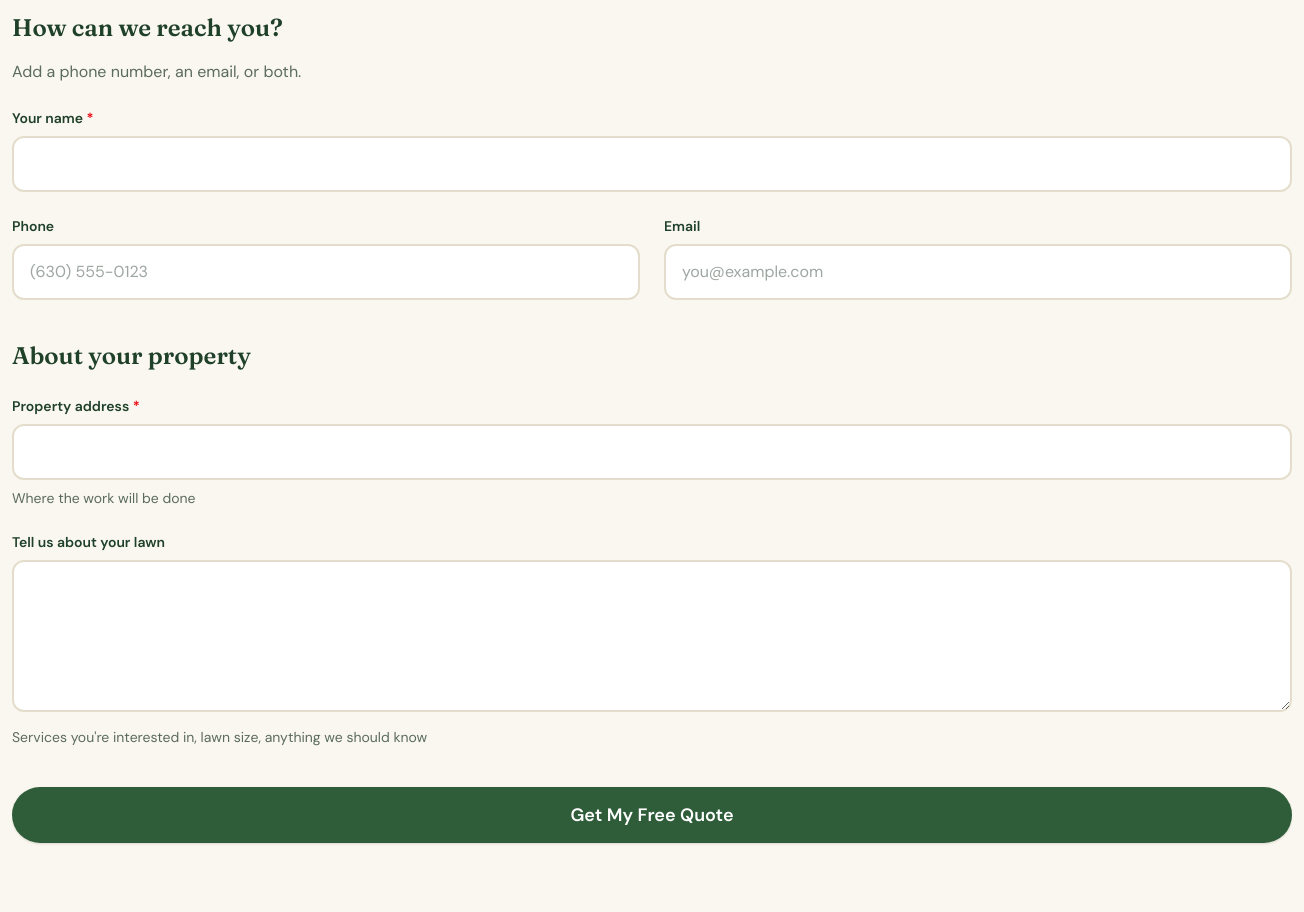
it: QuoteForm › requires a phone number or an email
The image size is (1304, 912).
Step 1. Type "Jane Smith" into the field labelled "Your name *" → (652, 164), box [12,136,1292,192]
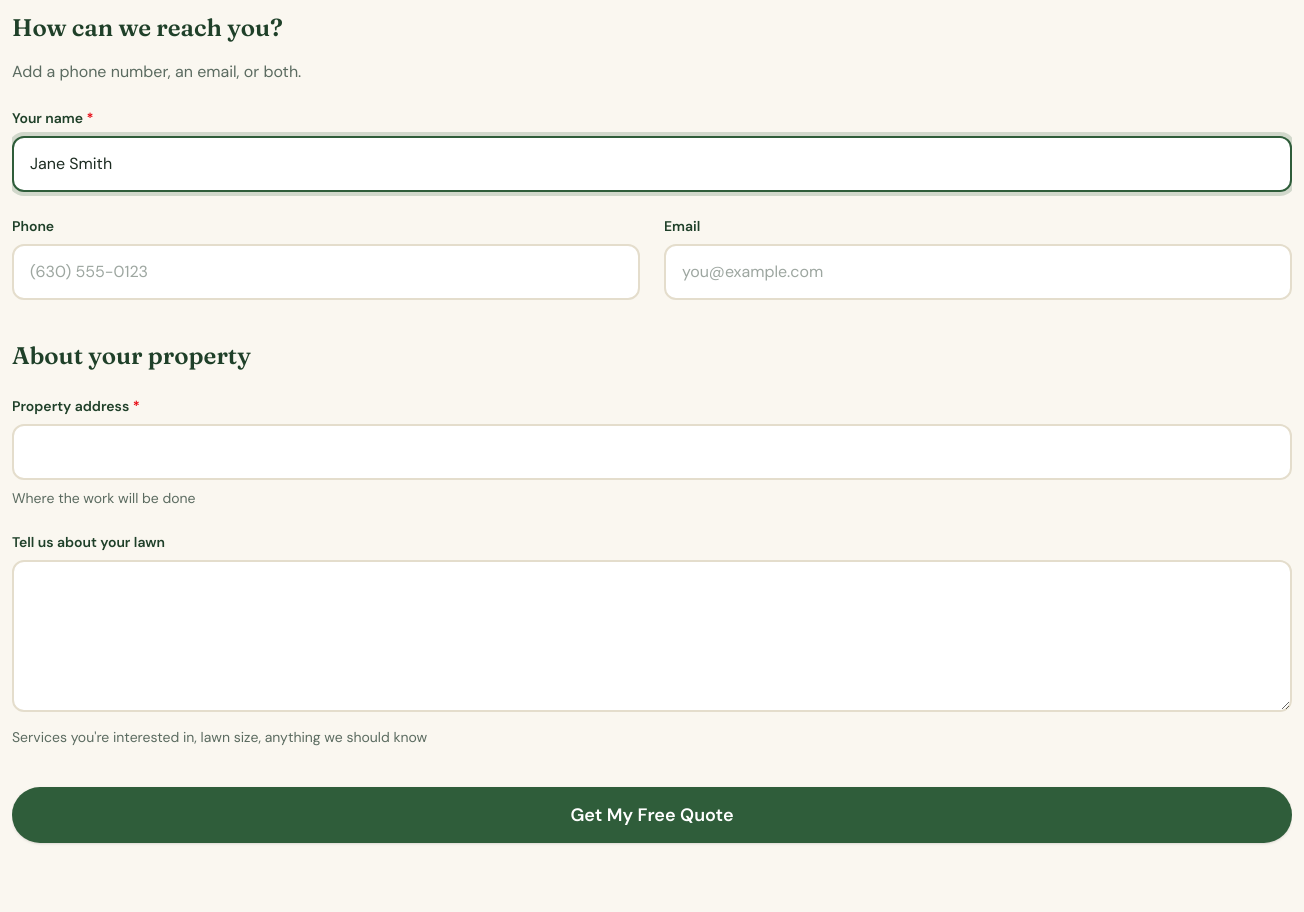
Step 2. Type "12 Main St" into the field labelled "Property address *" → (652, 452), box [12,424,1292,480]
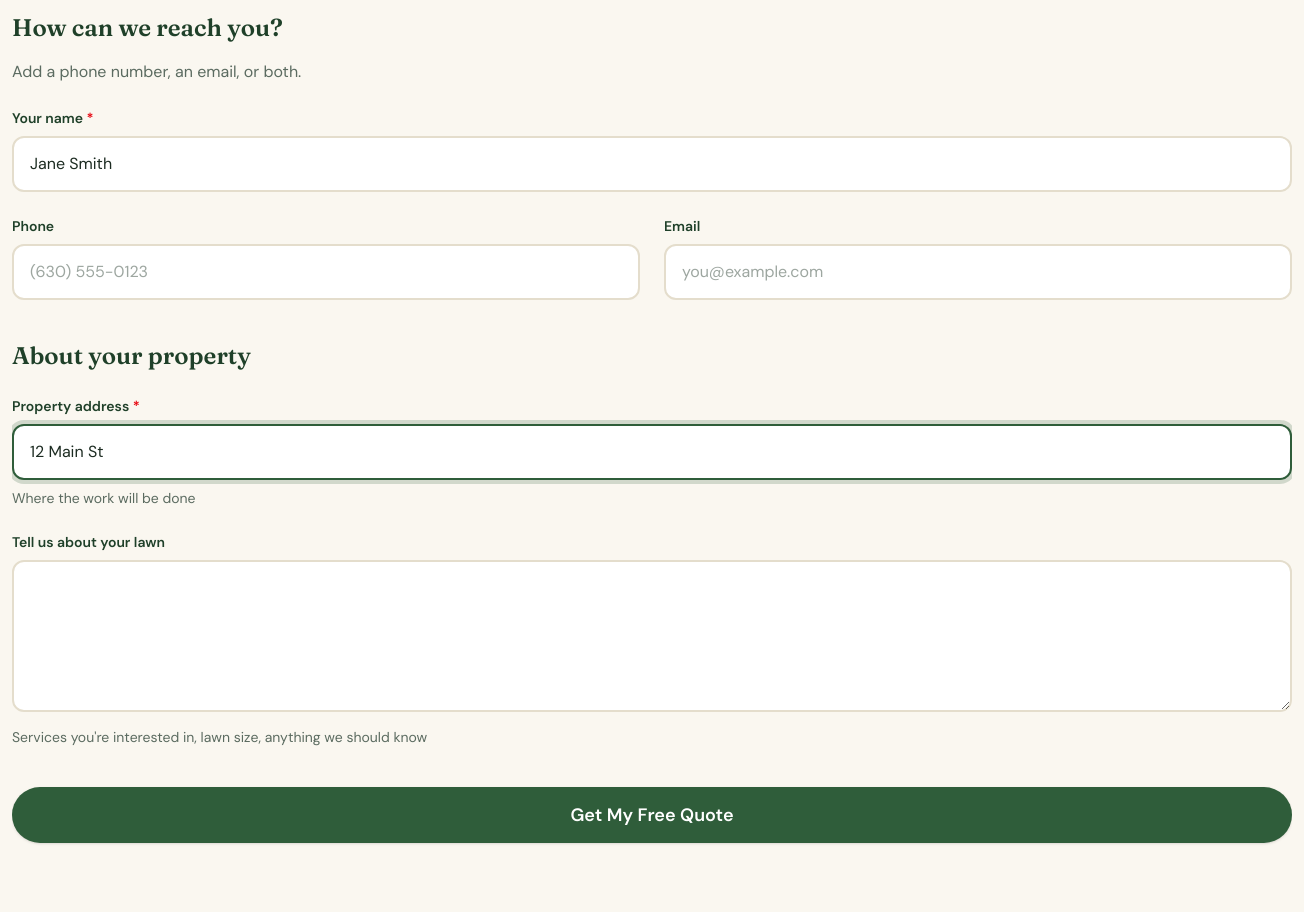
Step 3. Click the button "Get My Free Quote" → click(652, 815), box [12,787,1292,843]
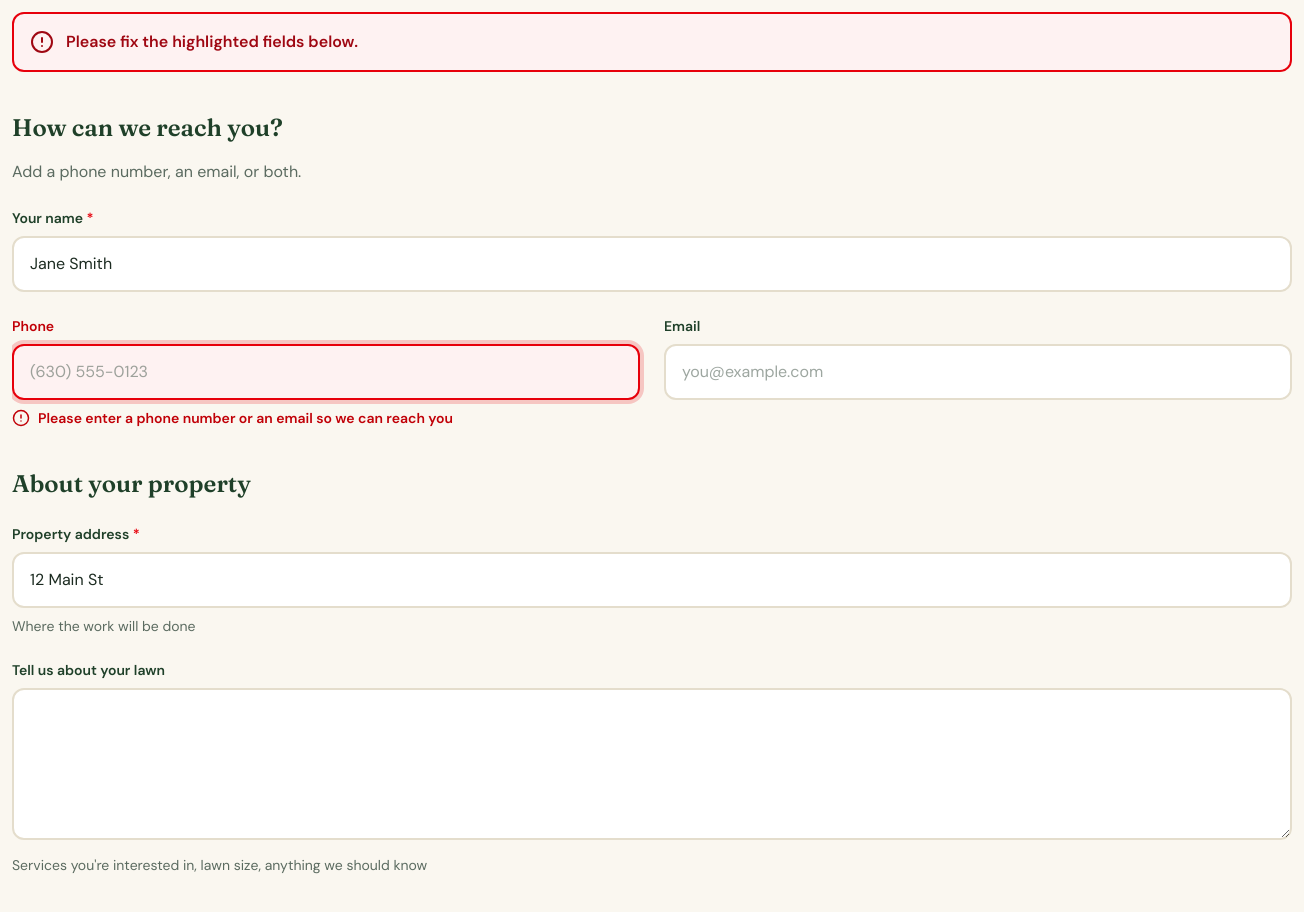
Check: the text "Please enter a phone number or an email so we can reach you" is shown, box [12,409,453,427]
